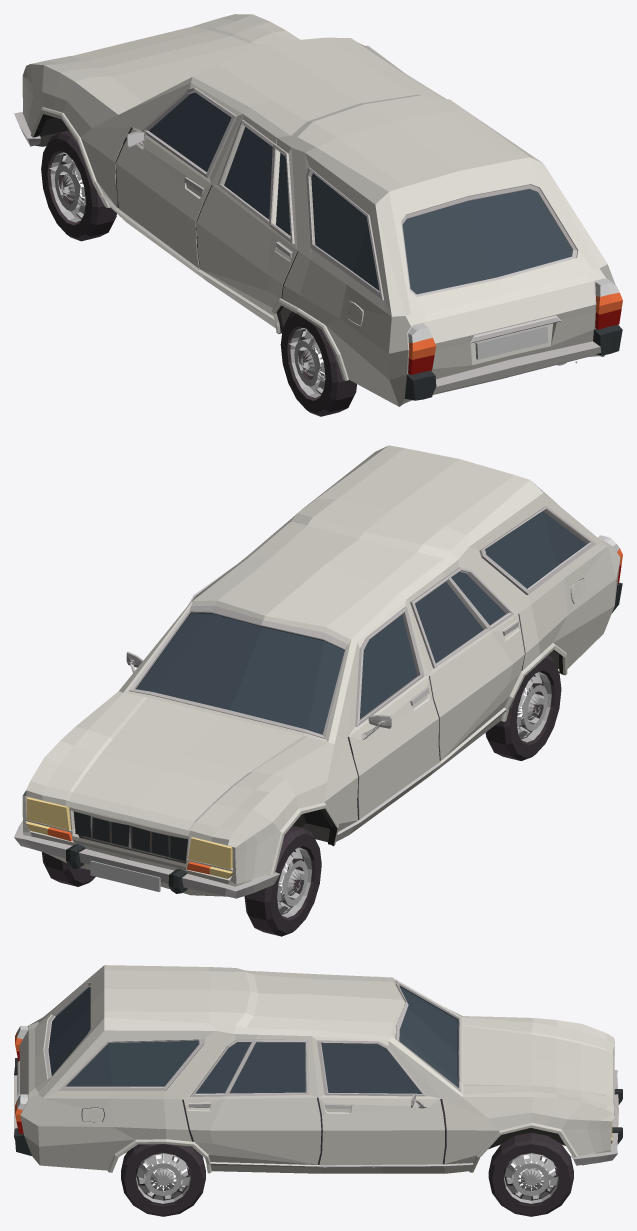
The model's file is peugeot-504-break.glb.
3 renders of one model, top to bottom at view 1: azimuth 30°, elevation 25°; view 2: azimuth 150°, elevation 25°; view 3: azimuth 270°, elevation 25°, orthographic. The views are drawn at different scales.
Parts seen in each view (by area): view 1: body, wheel_FL, wheel_RL; view 2: body, wheel_FL, wheel_RL, wheel_FR; view 3: body, wheel_FR, wheel_RR.
Part boxes in pixels (x1,y1,x2,y2): body: [14, 14, 622, 406]; wheel_FL: [41, 130, 116, 241]; wheel_RL: [280, 311, 356, 416]; body: [14, 445, 622, 898]; wheel_FL: [244, 825, 321, 936]; wheel_RL: [485, 655, 561, 760]; wheel_FR: [42, 852, 95, 886]; body: [14, 965, 622, 1173]; wheel_FR: [488, 1132, 573, 1216]; wheel_RR: [121, 1144, 205, 1216].
Bounding box in the file's own units: 1.85 × 1.62 × 4.8.
Materials: 2 (1 with a texture image).
